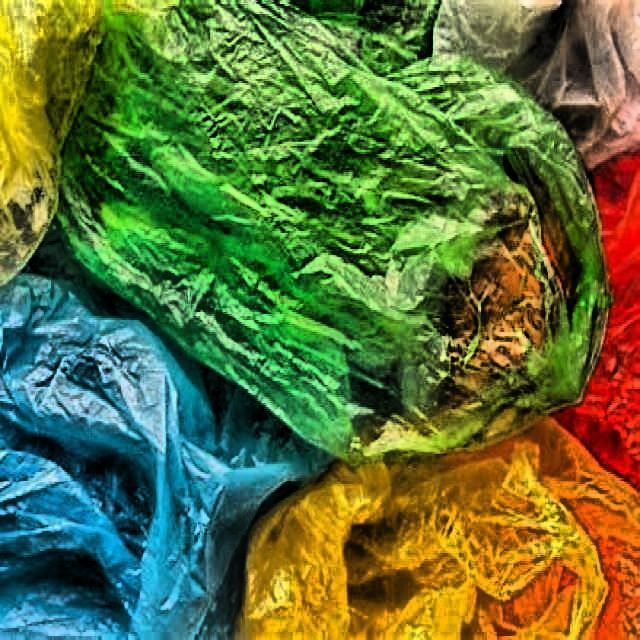Single-layer Plastic: (58, 1, 609, 459), (0, 274, 330, 639), (236, 419, 640, 640), (434, 0, 640, 168), (0, 0, 102, 284), (555, 152, 640, 489)
